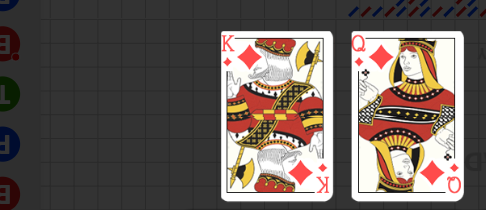KD: (316, 161, 331, 195)
QD: (364, 31, 408, 78), (431, 152, 475, 198)
